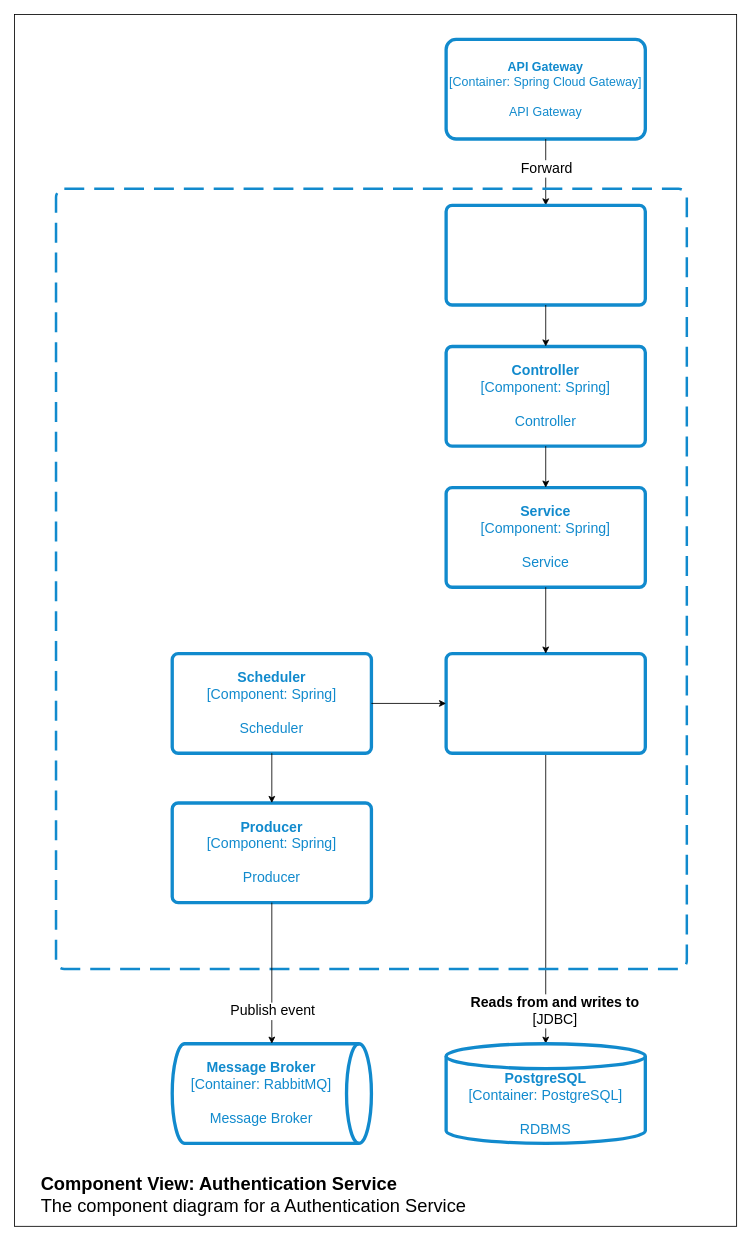
This 751x1241 diagram has some shape labels left out. The shapes that lost their labels are listed below. From the top down, each one's box as (x1, y1, x2, y2) in pixels, then its label:
(444, 203, 647, 306): Security Filter Chain [Component: Spring Security] Security Filter Chain
(54, 187, 688, 970): Authentication Service [Service]
(444, 652, 647, 754): Repository [Component: Spring] Repository
